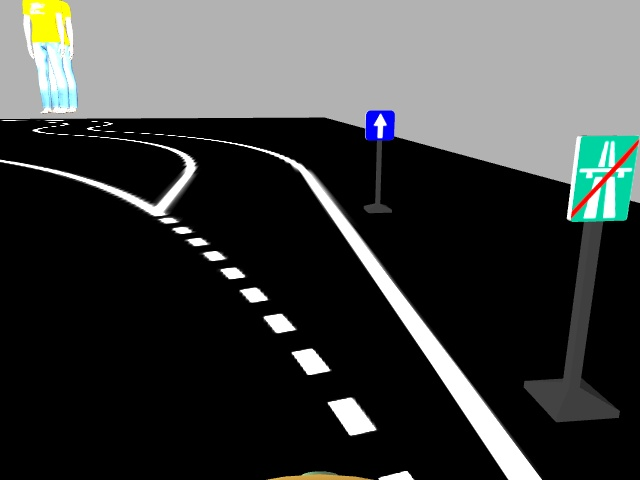HighwayExit: (571, 134, 632, 222)
OneWay: (362, 108, 394, 141)
